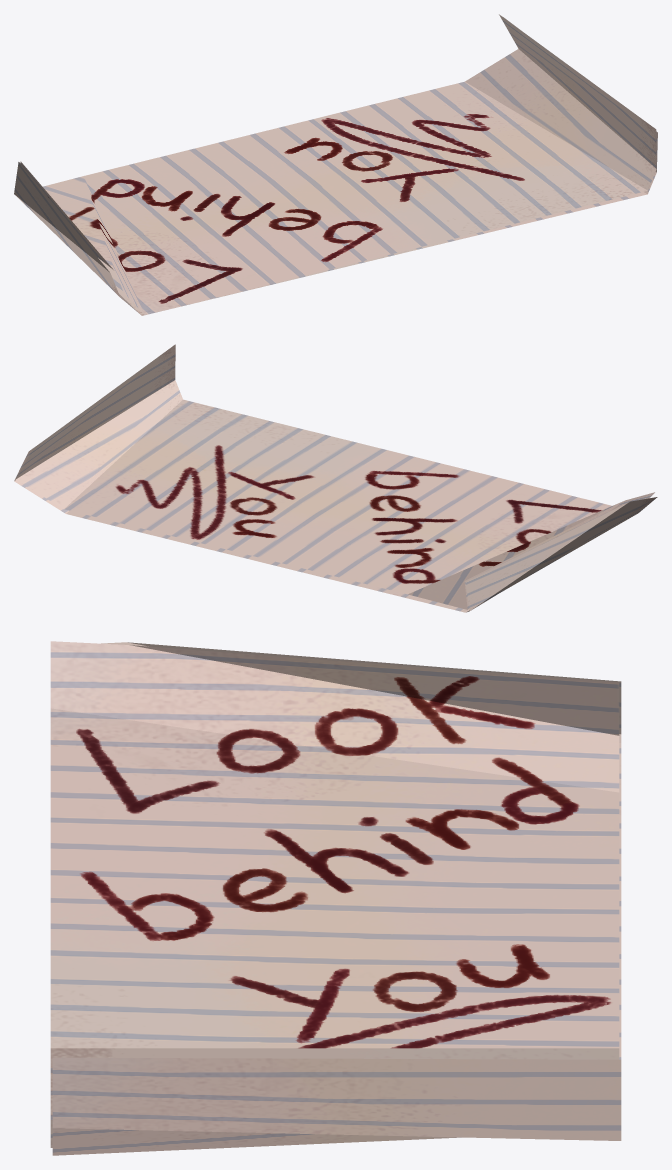
Rendered from Note03_Look_behind_you.fbx.
3 renders of one model, top to bottom at view 1: azimuth 30°, elevation 25°; view 2: azimuth 150°, elevation 25°; view 3: azimuth 270°, elevation 25°, orthographic. The views are drawn at different scales.
Visible parts, largest first — view 1: Note02; view 2: Note02; view 3: Note02.
Part boxes in pixels (x1,y1,x2,y2): Note02: (14,14,657,315); Note02: (14,344,657,612); Note02: (50,641,621,1155).
Bounding box in the file's own units: 0.4789 × 0.0534 × 0.236.
Materials: 1 (1 with a texture image).
